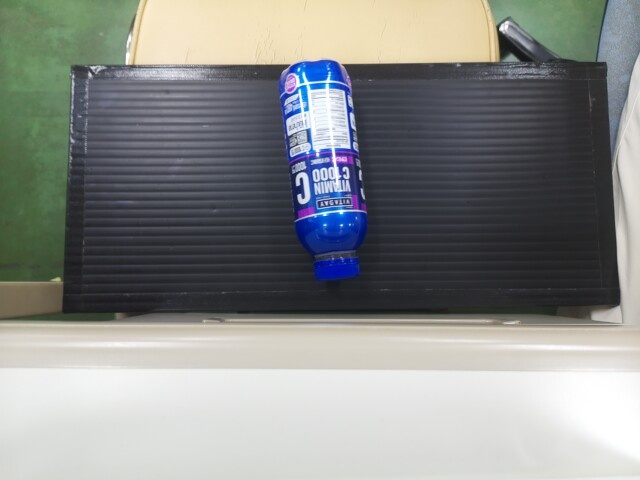plastic_bottle: (277, 56, 365, 280)
